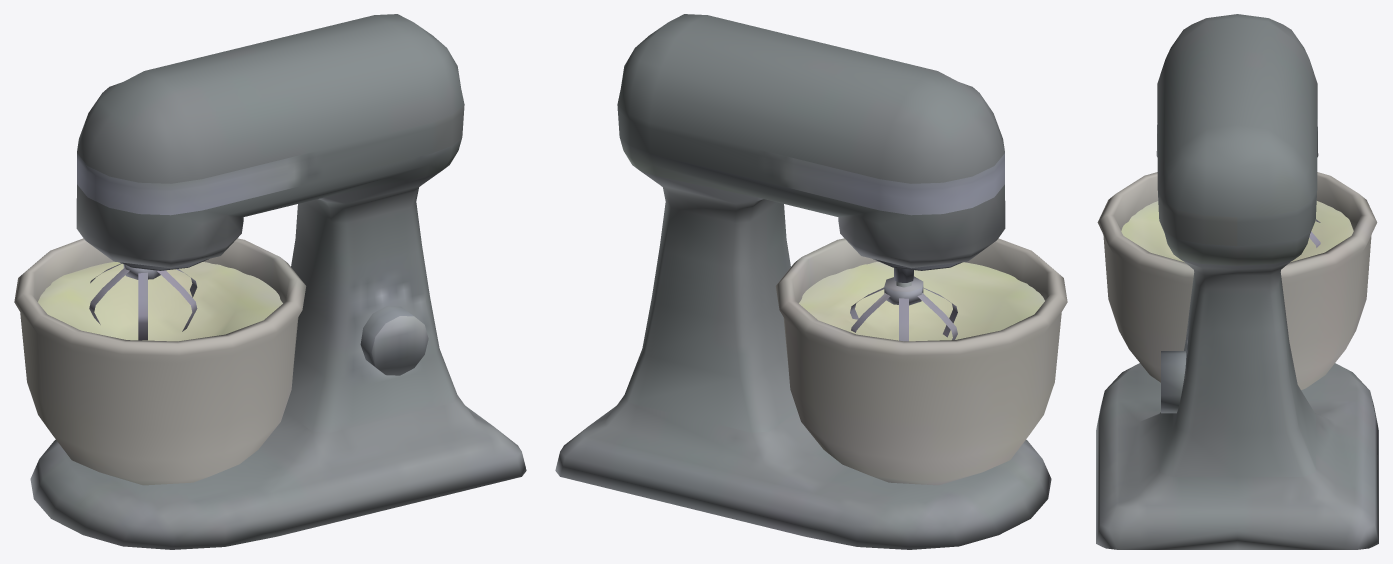
3 views of the same model, side by side, from view 1: azimuth 30°, elevation 25°; view 2: azimuth 150°, elevation 25°; view 3: azimuth 270°, elevation 25° (orthographic). The views are drawn at different scales.
Size of the model in its own units: 7.64 by 7.05 by 4.61.
Materials: 1 (1 with a texture image).
